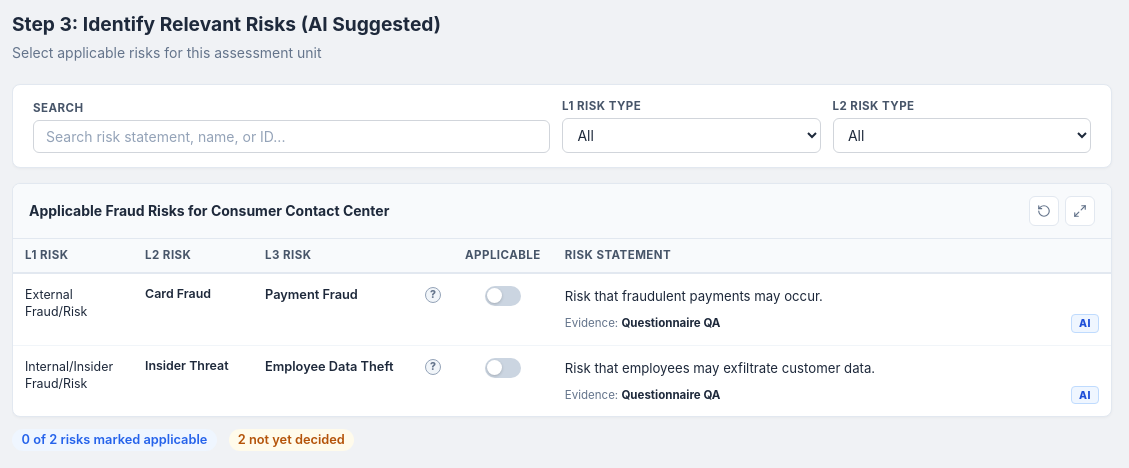
Test case: StepIdentifyRisks — filters › search input filters the visible risk rows
Expected: the text "Payment Fraud" is shown, [265,287,358,302]
Type "Payment" into the field with placeholder "Search risk statement, name, or ID..." at (292, 137), box [33,120,550,153]
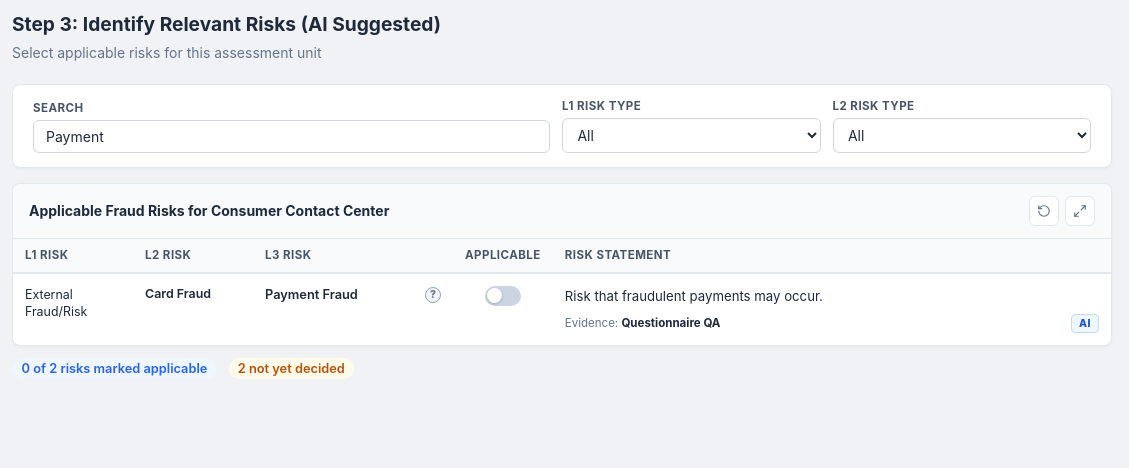
Expected: the text "Payment Fraud" is shown, [265,287,358,302]
Expected: the text "Employee Data Theft" is gone
